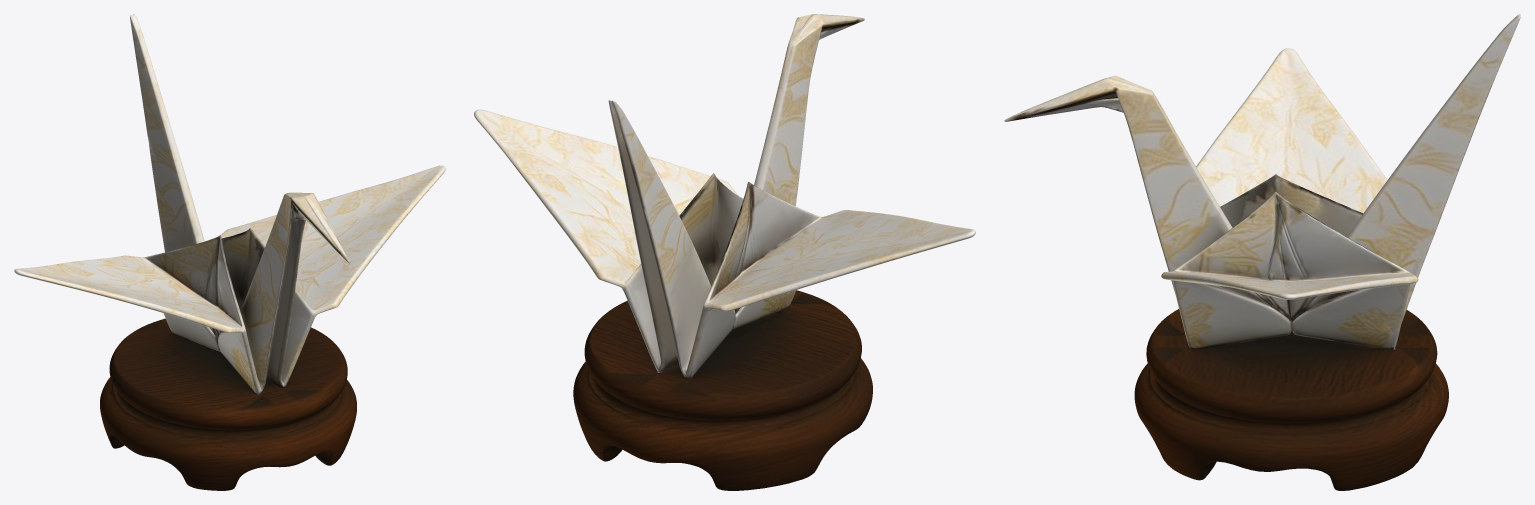
Rendered from crane.glb.
The picture shows the model from 3 angles, left to right: view 1: azimuth 30°, elevation 25°; view 2: azimuth 150°, elevation 25°; view 3: azimuth 270°, elevation 25°; orthographic projection. The views are drawn at different scales.
Parts seen in each view (by area): view 1: node_0; view 2: node_0; view 3: node_0.
Part boxes in pixels (x1,y1,x2,y2): node_0: (14, 14, 445, 490); node_0: (474, 14, 975, 490); node_0: (1004, 14, 1520, 490).
Size of the model in its own units: 1 by 0.7957 by 0.8806.
Materials: 1 (1 with a texture image).
